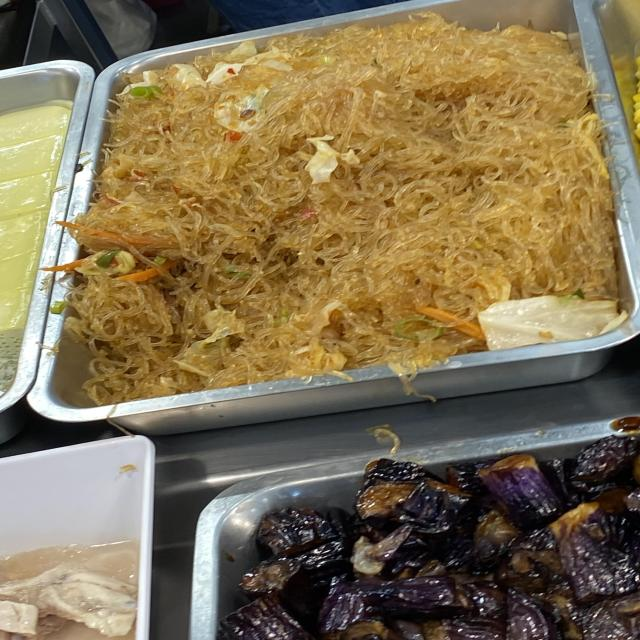Ants climbing the tree: (143, 85, 548, 314)
